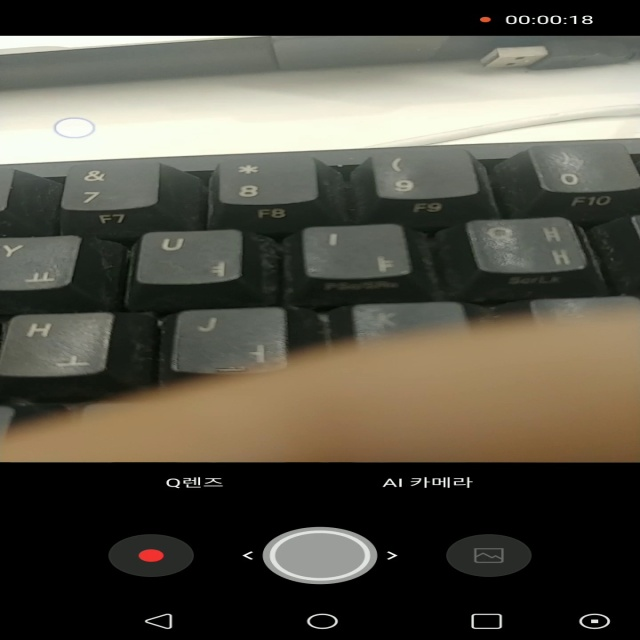Cursor: (52, 117, 96, 139)
